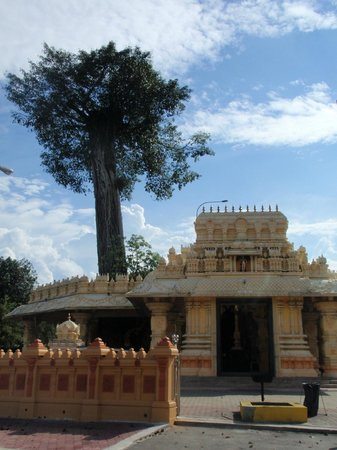Hindu Temple: (33, 204, 333, 387)
